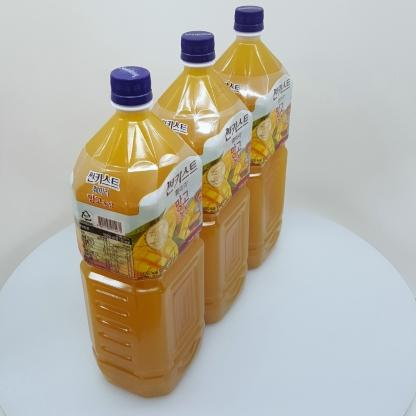---------2L: (69, 66, 205, 397), (148, 31, 253, 324), (209, 6, 293, 269)
